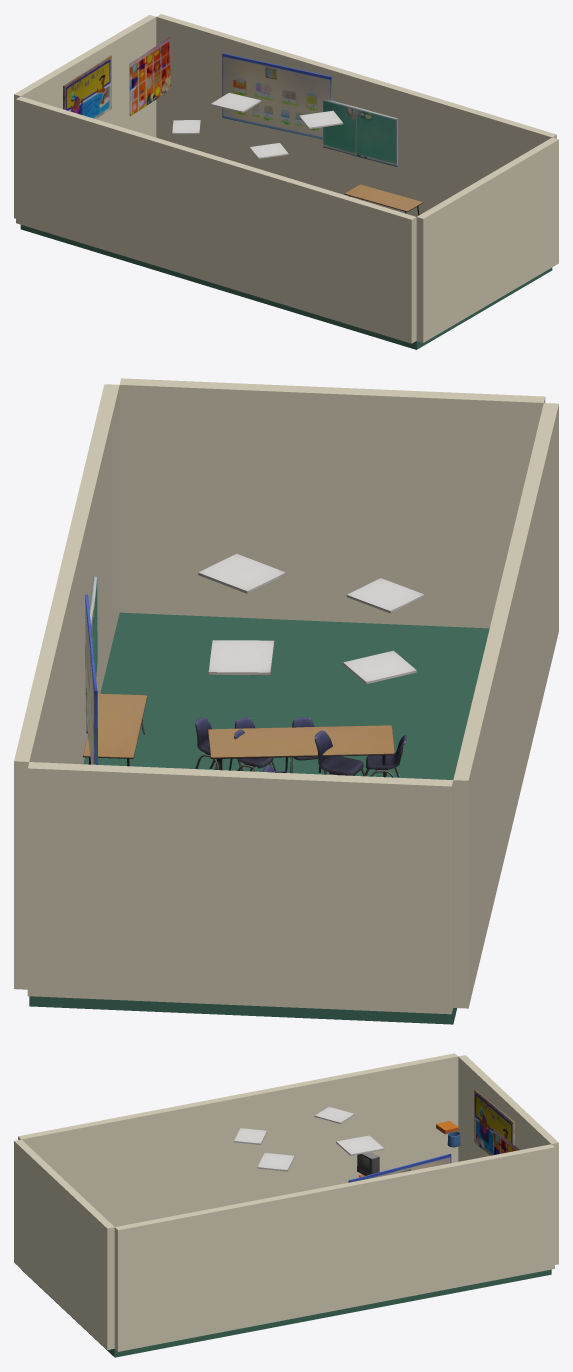
File: stage2.glb
The picture shows the model from 3 angles, top to bottom: view 1: azimuth 30°, elevation 25°; view 2: azimuth 150°, elevation 25°; view 3: azimuth 270°, elevation 25°; orthographic projection. The views are drawn at different scales.
Parts seen in each view (by area): view 1: Wall_01, geometry_0.021, geometry_0.002, Floor, geometry_0.026, geometry_0.006, geometry_0.008, geometry_0.005; view 2: Wall_01, Floor, geometry_0.005, geometry_0.008, geometry_0.021, geometry_0.001; view 3: Wall_01, Floor, geometry_0.008, geometry_0.006, geometry_0.021, geometry_0, geometry_0.026.
Part boxes in pixels (box(x1,y1,x2,y2)): Wall_01: box(14, 14, 558, 343); geometry_0.021: box(222, 53, 331, 139); geometry_0.002: box(323, 100, 397, 166); Floor: box(20, 225, 552, 349); geometry_0.026: box(129, 37, 170, 116); geometry_0.006: box(63, 55, 111, 118); geometry_0.008: box(172, 92, 343, 158); geometry_0.005: box(344, 184, 423, 215); Wall_01: box(14, 378, 558, 1014); Floor: box(29, 612, 489, 1024); geometry_0.005: box(83, 693, 394, 777); geometry_0.008: box(198, 553, 424, 684); geometry_0.021: box(85, 594, 97, 764); geometry_0.001: box(314, 730, 365, 776); Wall_01: box(14, 1053, 558, 1351); Floor: box(22, 1269, 551, 1357); geometry_0.008: box(234, 1106, 384, 1171); geometry_0.006: box(474, 1089, 514, 1155); geometry_0.021: box(348, 1153, 451, 1182); geometry_0: box(357, 1152, 379, 1175); geometry_0.026: box(493, 1128, 519, 1155).
Bounding box in the file's own units: 12.79 × 4.4 × 16.64.
14 materials, 12 textured.
